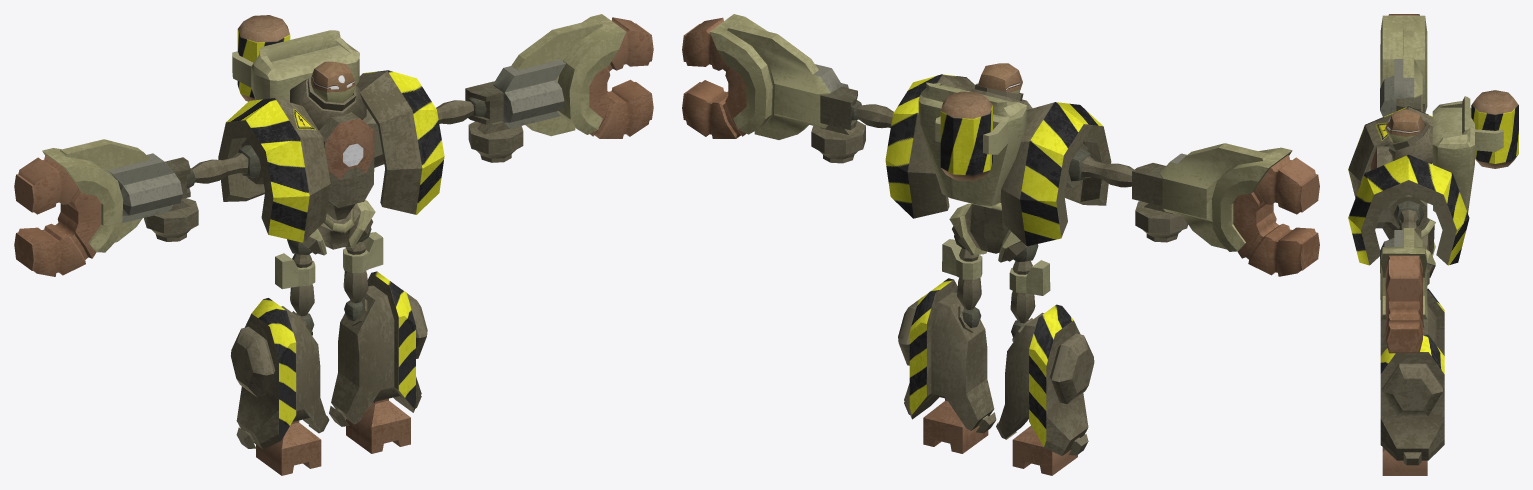
Rendered from EMPA.fbx.
The picture shows the model from 3 angles, left to right: view 1: azimuth 30°, elevation 25°; view 2: azimuth 150°, elevation 25°; view 3: azimuth 270°, elevation 25°; orthographic projection. The views are drawn at different scales.
Visible parts, largest first — view 1: torso_shoulderarch_r, leg_lower_r, arm_bracket_l, leg_lower_l, torso_shoulderarch_l, arm_bracket_r, arm_magnet_r, torso_backpack, torso_chestplate, arm_magnet_l, leg_foot_l, leg_foot_r (+11 smaller); view 2: leg_lower_r, torso_shoulderarch_r, leg_lower_l, arm_bracket_l, arm_bracket_r, arm_magnet_r, torso_backpack, torso_shoulderarch_l, arm_magnet_l, torso_tank, torso_pelvis, leg_foot_l (+10 smaller); view 3: leg_lower_l, torso_shoulderarch_l, arm_bracket_r, torso_backpack, arm_magnet_l, torso_tank, arm_bracket_l, torso_shoulderarch_r, torso_chestplate, leg_lower_r, torso_collar, torso_head (+5 smaller).
Boxes of the visible parts, x1,y1,x2,y2 form: torso_shoulderarch_r: (218, 98, 330, 242); leg_lower_r: (231, 298, 329, 449); arm_bracket_l: (493, 14, 626, 136); leg_lower_l: (329, 271, 427, 426); torso_shoulderarch_l: (356, 70, 444, 214); arm_bracket_r: (42, 139, 182, 252); arm_magnet_r: (14, 155, 101, 276); torso_backpack: (232, 30, 359, 102); torso_chestplate: (241, 108, 383, 220); arm_magnet_l: (589, 17, 653, 138); leg_foot_l: (346, 398, 410, 453); leg_foot_r: (256, 420, 321, 475); leg_lower_r: (996, 304, 1094, 455); torso_shoulderarch_r: (1000, 102, 1111, 246); leg_lower_l: (898, 278, 996, 433); arm_bracket_l: (710, 14, 848, 139); arm_bracket_r: (1160, 143, 1292, 251); arm_magnet_r: (1233, 155, 1319, 276); torso_backpack: (918, 82, 1026, 208); torso_shoulderarch_l: (885, 74, 975, 218); arm_magnet_l: (682, 17, 746, 138); torso_tank: (940, 91, 992, 181); torso_pelvis: (949, 203, 1028, 262); leg_foot_l: (923, 398, 988, 453); leg_lower_l: (1380, 334, 1444, 465); torso_shoulderarch_l: (1348, 154, 1469, 265); arm_bracket_r: (1380, 15, 1427, 116); torso_backpack: (1432, 96, 1503, 212); arm_magnet_l: (1385, 255, 1422, 353); torso_tank: (1471, 90, 1518, 168); arm_bracket_l: (1380, 228, 1427, 319); torso_shoulderarch_r: (1348, 106, 1432, 197); torso_chestplate: (1370, 146, 1427, 239); leg_lower_r: (1380, 288, 1444, 355); torso_collar: (1386, 120, 1432, 163); torso_head: (1385, 109, 1424, 143).
Bounding box in the file's own units: 25.25 × 15.32 × 6.91.
